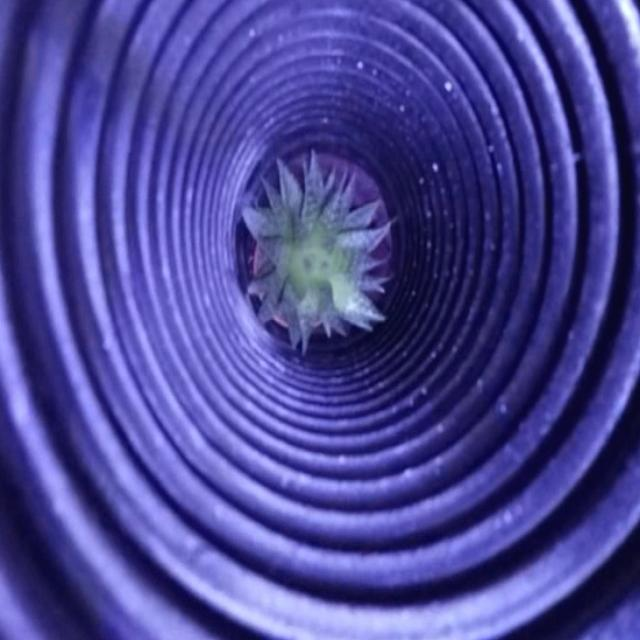leaf: (243, 156, 390, 348)
